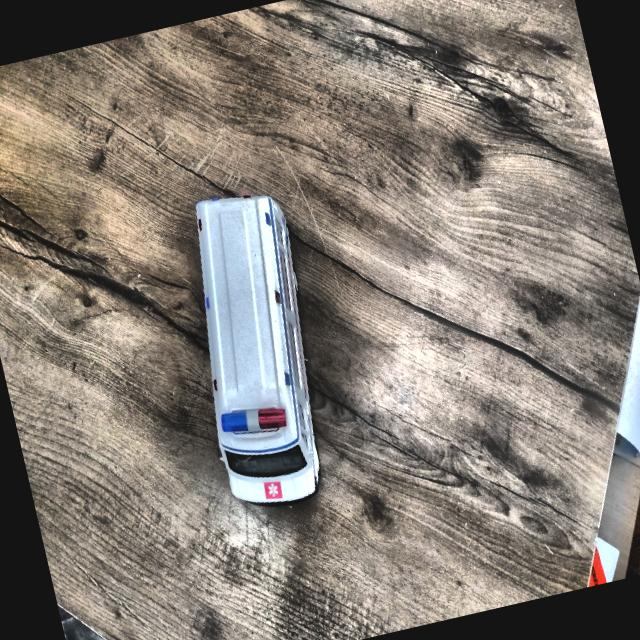Ambulance: (155, 171, 352, 520)
